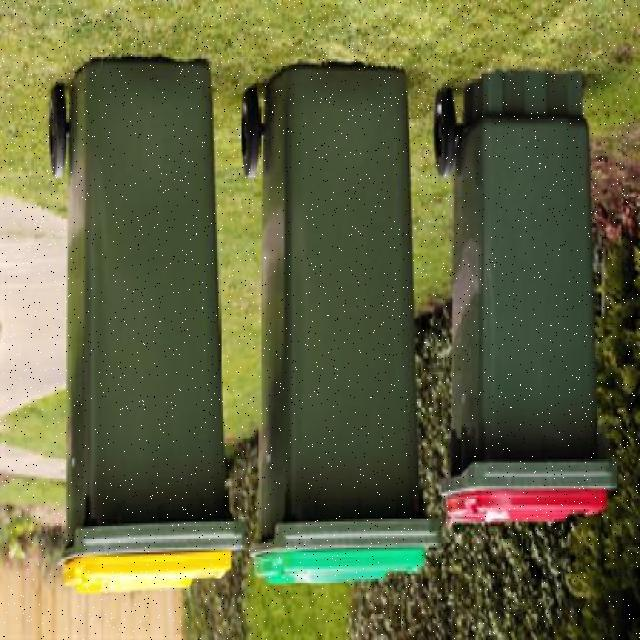garbage container: (39, 44, 252, 606), (236, 50, 445, 592), (432, 48, 621, 551)
